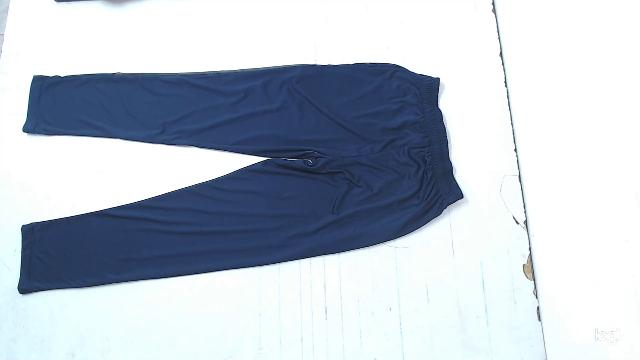new-garment: (18, 63, 463, 293)
